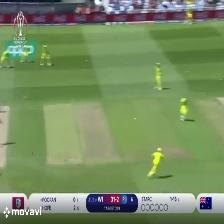ball: (129, 115, 138, 120)
